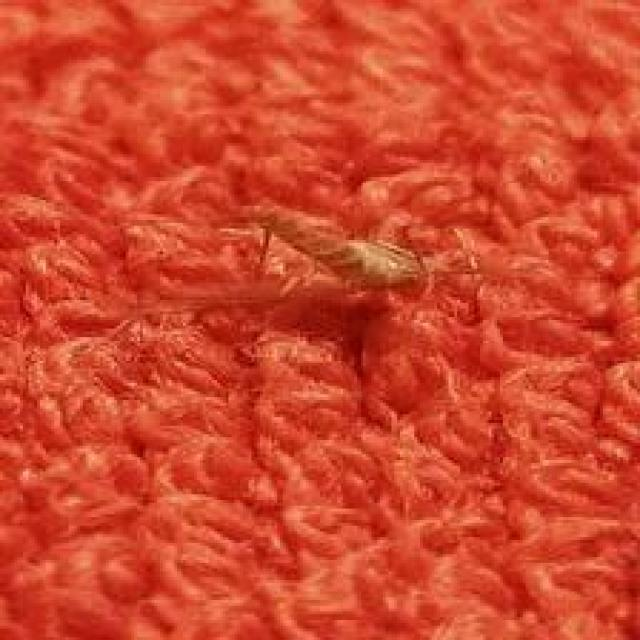Culex: (240, 200, 429, 291)
